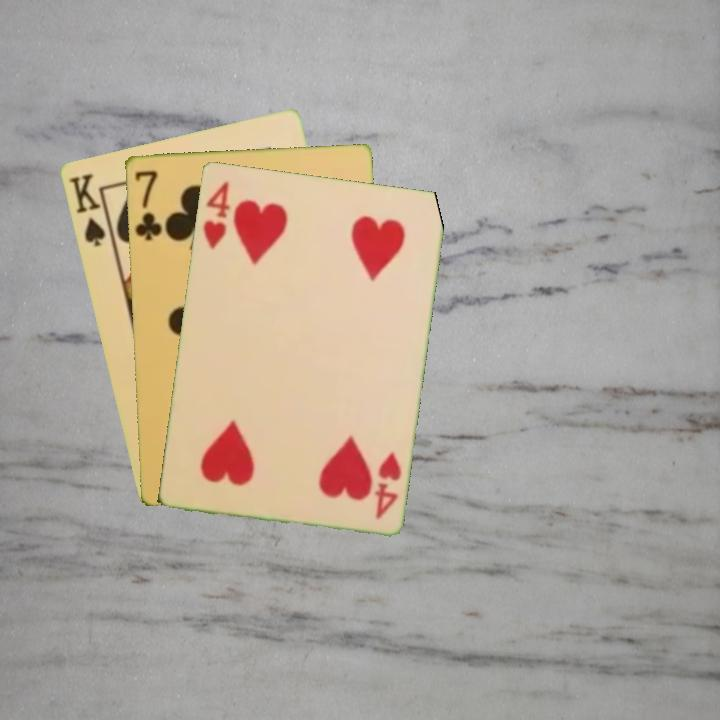4h: (199, 177, 233, 252), (370, 448, 404, 522)
7c: (131, 166, 164, 243)
Ks: (64, 169, 115, 250)
